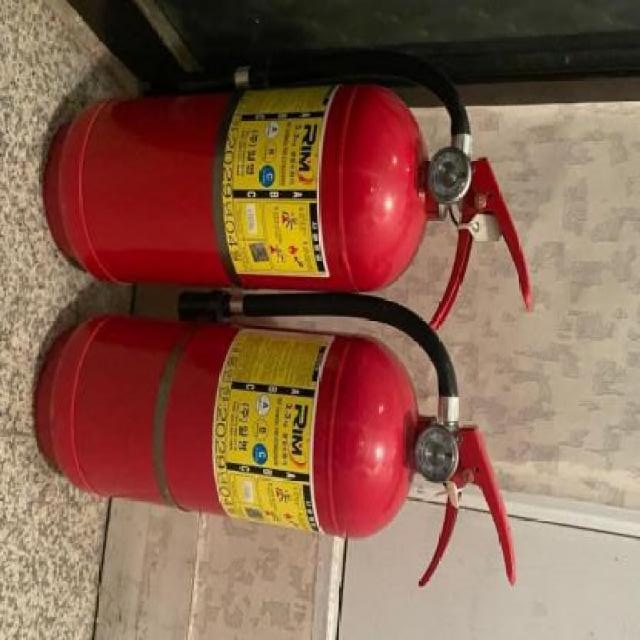fire extinguisher: (32, 288, 517, 589), (46, 53, 537, 332)
